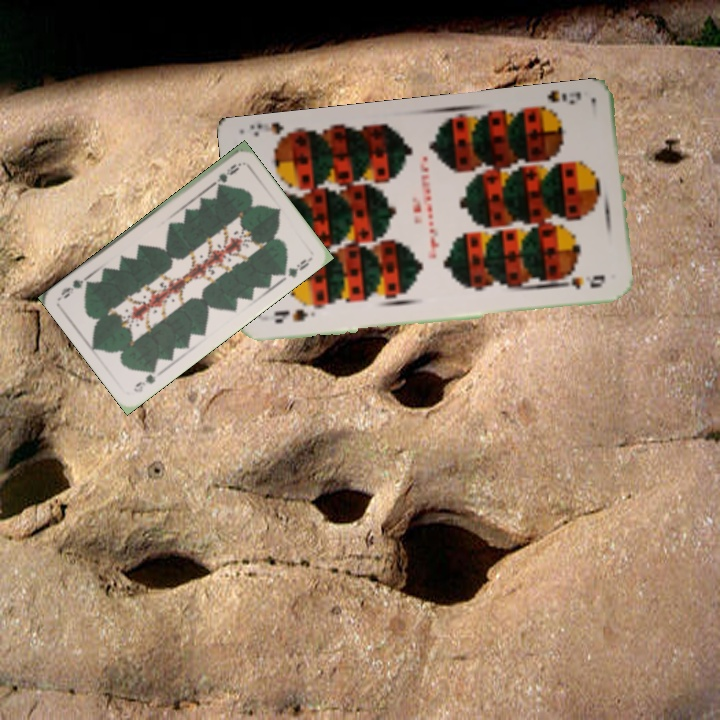G9: (207, 159, 243, 189), (129, 363, 159, 395)
S9: (531, 87, 584, 118), (269, 305, 318, 326)
